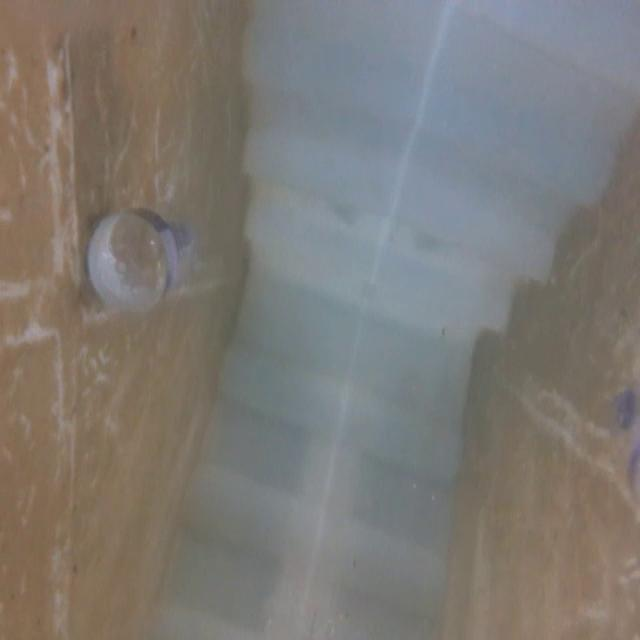plastic bottle: (37, 212, 221, 330)
